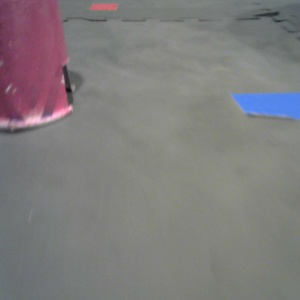middle: (1, 1, 74, 134)
